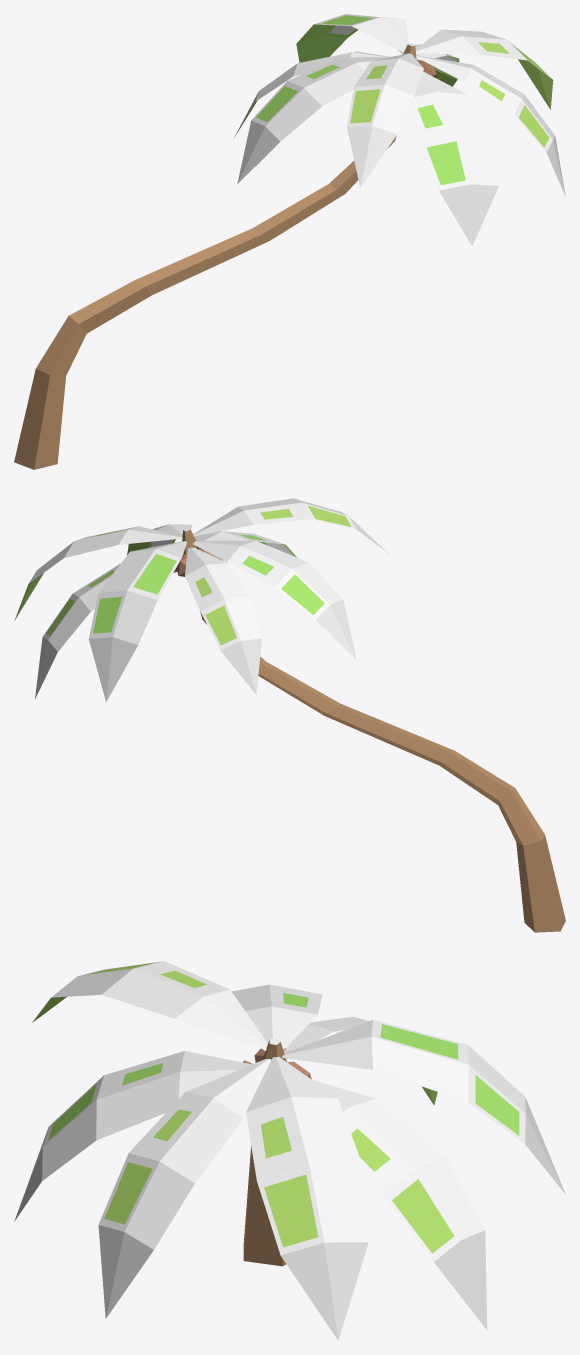
Rendered from Palm_Tree_Coconut_m_Snow_05_LOD.fbx.
3 renders of one model, top to bottom at view 1: azimuth 30°, elevation 25°; view 2: azimuth 150°, elevation 25°; view 3: azimuth 270°, elevation 25°, orthographic. The views are drawn at different scales.
Visible parts, largest first — view 1: Palm_Tree_Coconut_m_Snow_05_LOD0; view 2: Palm_Tree_Coconut_m_Snow_05_LOD0; view 3: Palm_Tree_Coconut_m_Snow_05_LOD0.
Part boxes in pixels (<box>): Palm_Tree_Coconut_m_Snow_05_LOD0: <box>14,14,565,469</box>; Palm_Tree_Coconut_m_Snow_05_LOD0: <box>14,498,565,932</box>; Palm_Tree_Coconut_m_Snow_05_LOD0: <box>14,961,565,1340</box>.
Size of what is drawn, in the model's own units: 581 by 336 by 332.
